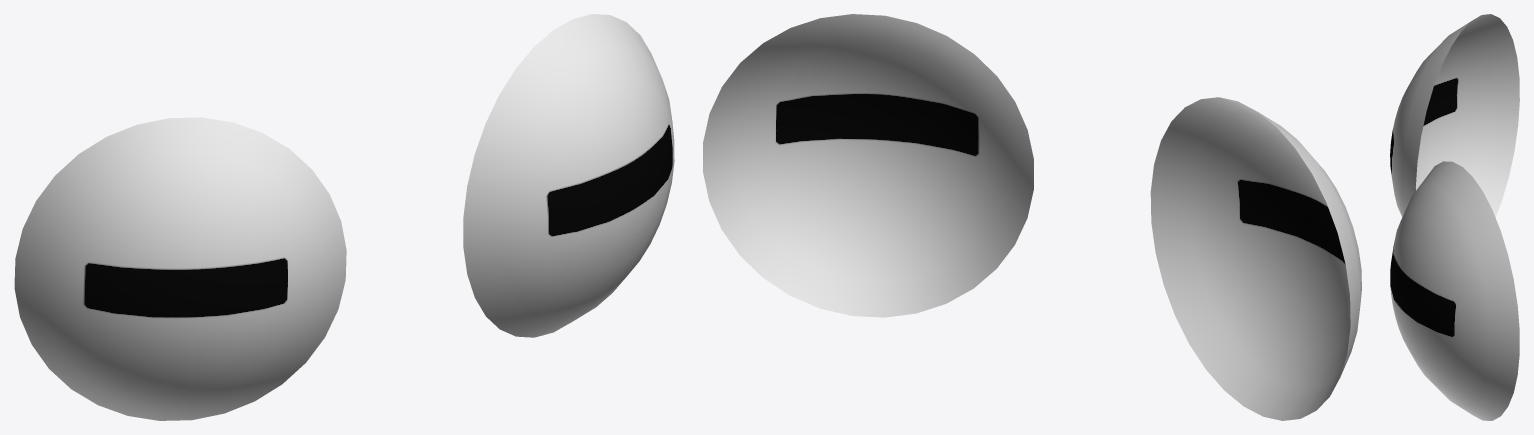
File: Eyes_7_close.fbx
3 views of the same model, side by side, from view 1: azimuth 30°, elevation 25°; view 2: azimuth 150°, elevation 25°; view 3: azimuth 270°, elevation 25° (orthographic). The views are drawn at different scales.
Visible parts, largest first — view 1: Eyes_7_close; view 2: Eyes_7_close; view 3: Eyes_7_close.
Boxes of the visible parts, x1=… form: Eyes_7_close: x1=14, y1=14, x2=674, y2=420; Eyes_7_close: x1=703, y1=14, x2=1361, y2=420; Eyes_7_close: x1=1390, y1=14, x2=1519, y2=420.
Bounding box in the file's own units: 34.8 × 15.54 × 7.65.
